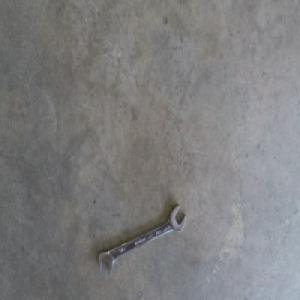Wrench: (97, 203, 186, 273)
